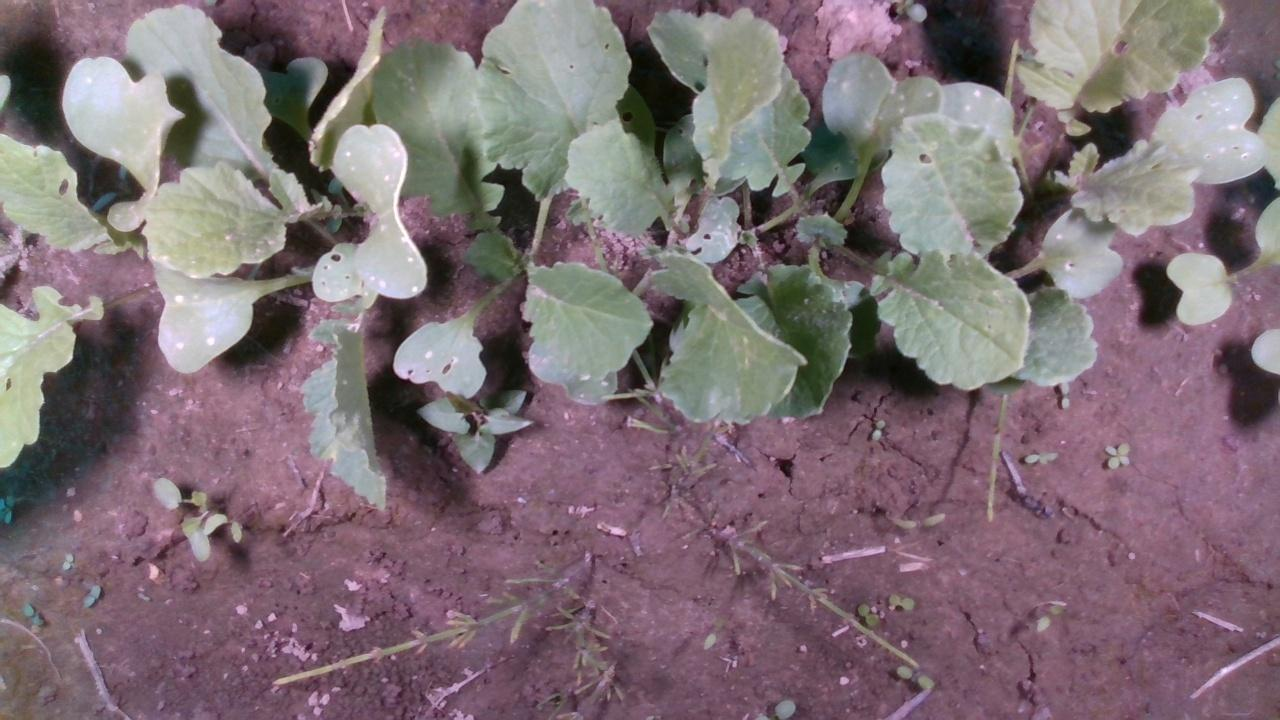weed: (884, 510, 945, 529), (894, 664, 935, 688), (1034, 600, 1064, 631), (1102, 441, 1130, 469), (20, 600, 45, 626), (1022, 450, 1058, 466), (856, 602, 877, 626), (886, 594, 914, 611), (82, 582, 100, 607), (870, 418, 884, 441), (60, 551, 73, 569)
